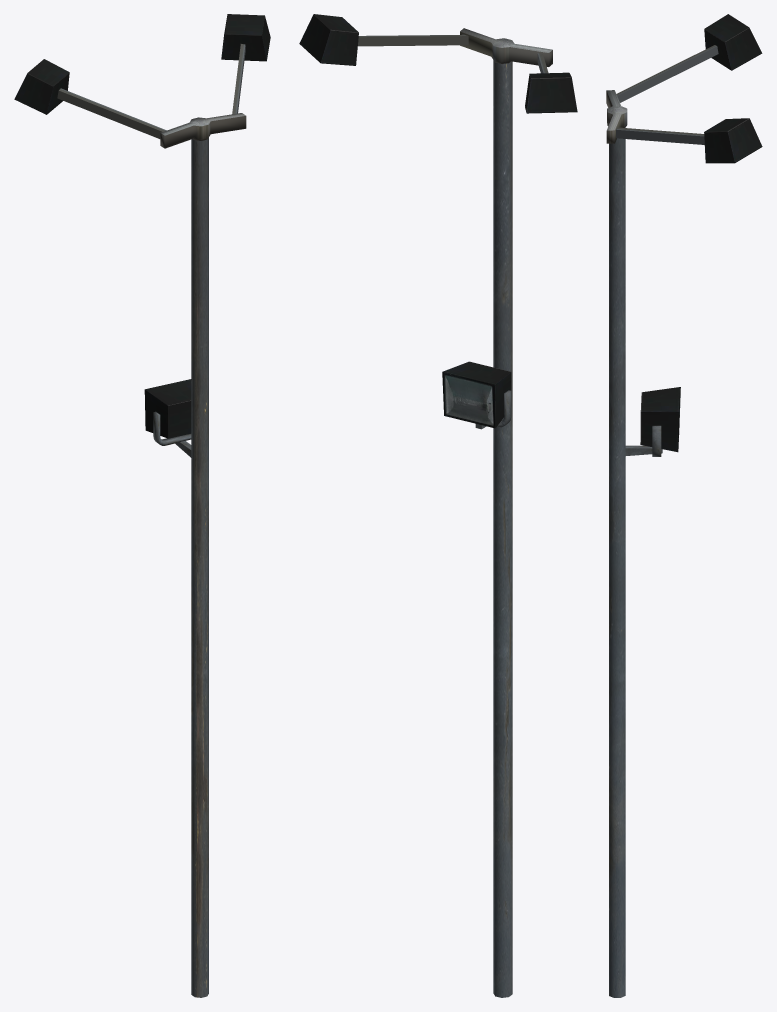
File: Light-04.fbx
The picture shows the model from 3 angles, left to right: view 1: azimuth 30°, elevation 25°; view 2: azimuth 150°, elevation 25°; view 3: azimuth 270°, elevation 25°; orthographic projection. The views are drawn at different scales.
Parts seen in each view (by area): view 1: Light-01; view 2: Light-01; view 3: Light-01.
Boxes of the visible parts, box(x1,y1,x2,y2) form: Light-01: box(14, 14, 270, 997); Light-01: box(299, 14, 577, 997); Light-01: box(606, 14, 762, 997).
Size of the model in its own units: 250 by 848 by 130.
